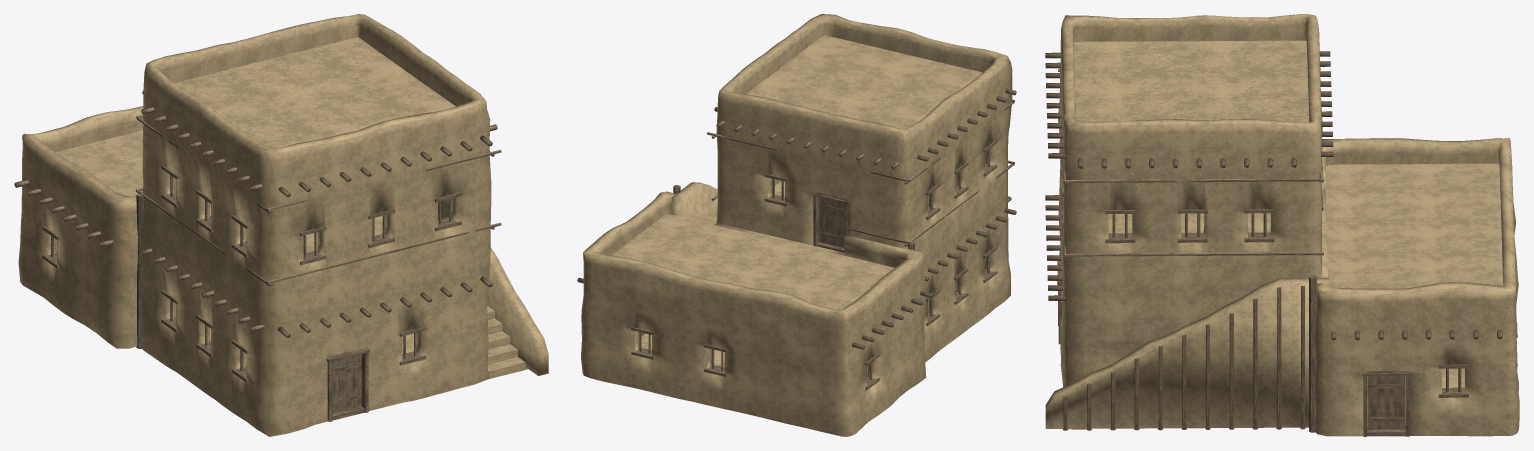
Rendered from egypt_house_008.glb.
The picture shows the model from 3 angles, left to right: view 1: azimuth 30°, elevation 25°; view 2: azimuth 150°, elevation 25°; view 3: azimuth 270°, elevation 25°; orthographic projection. The views are drawn at different scales.
Parts seen in each view (by area): view 1: upper, walls; view 2: upper, walls; view 3: upper, walls.
Part boxes in pixels (x1,y1,x2,y2): upper: [22, 14, 501, 332]; walls: [14, 169, 548, 436]; upper: [583, 14, 1016, 342]; walls: [577, 184, 1016, 436]; upper: [1045, 14, 1518, 325]; walls: [1045, 195, 1519, 436].
Bounding box in the file's own units: 7.76 × 6.32 × 9.43.
Materials: 2 (2 with a texture image).
